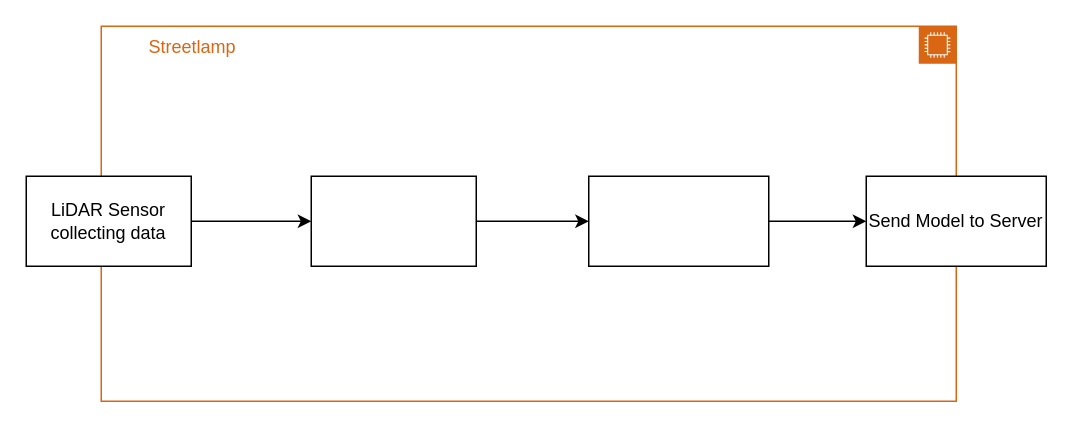
The diagram is 1073 pixels wide and 428 high, and some of its shapes have lost their labels. The box of each missing label's shape, as (x1, y1, x2, y2) in pixels:
Build 3D Model: (587, 175, 769, 266)
Distinguish between mobile and static structures: (310, 175, 476, 266)
